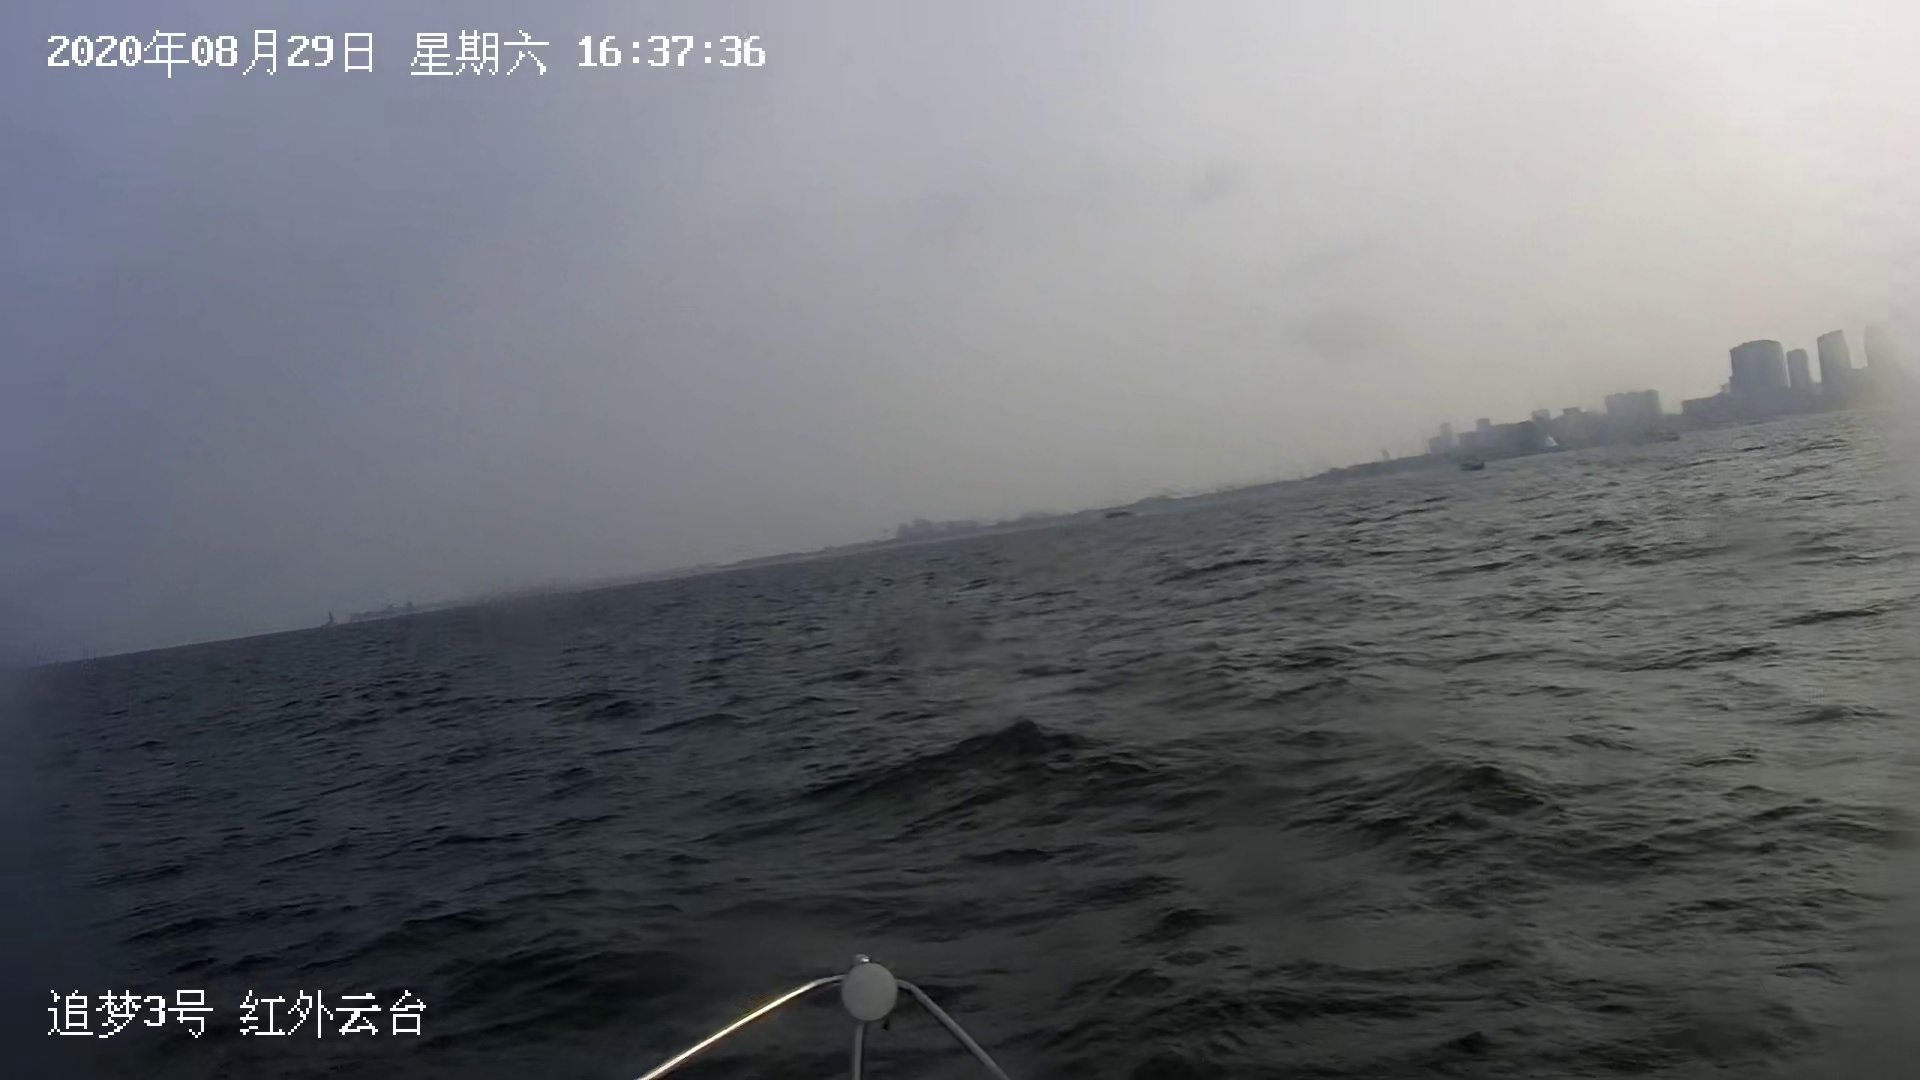barrier: (1457, 454, 1489, 473), (1098, 506, 1137, 522)
coast: (322, 324, 1902, 629)
